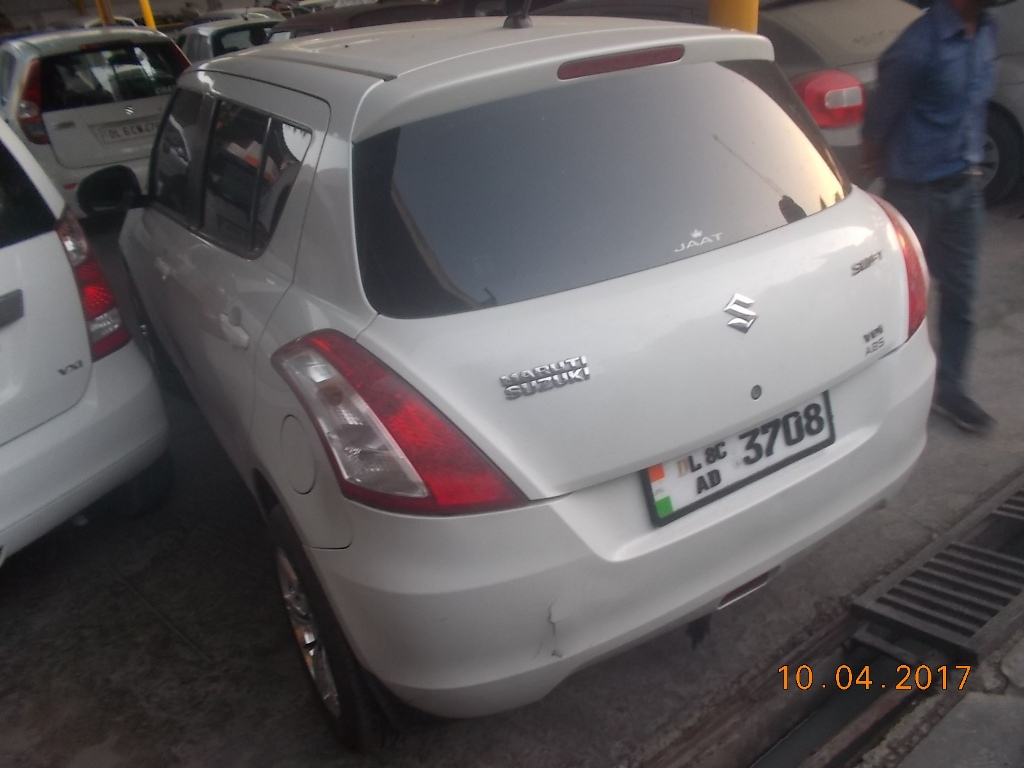Scratch_or_spot: (536, 595, 563, 658)
